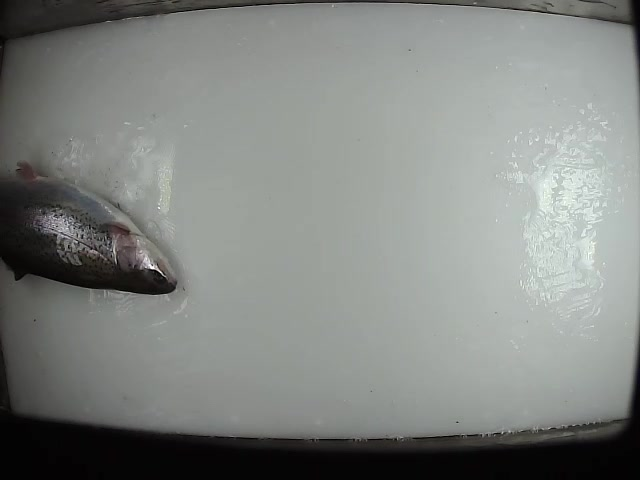fish: (1, 157, 180, 300)
